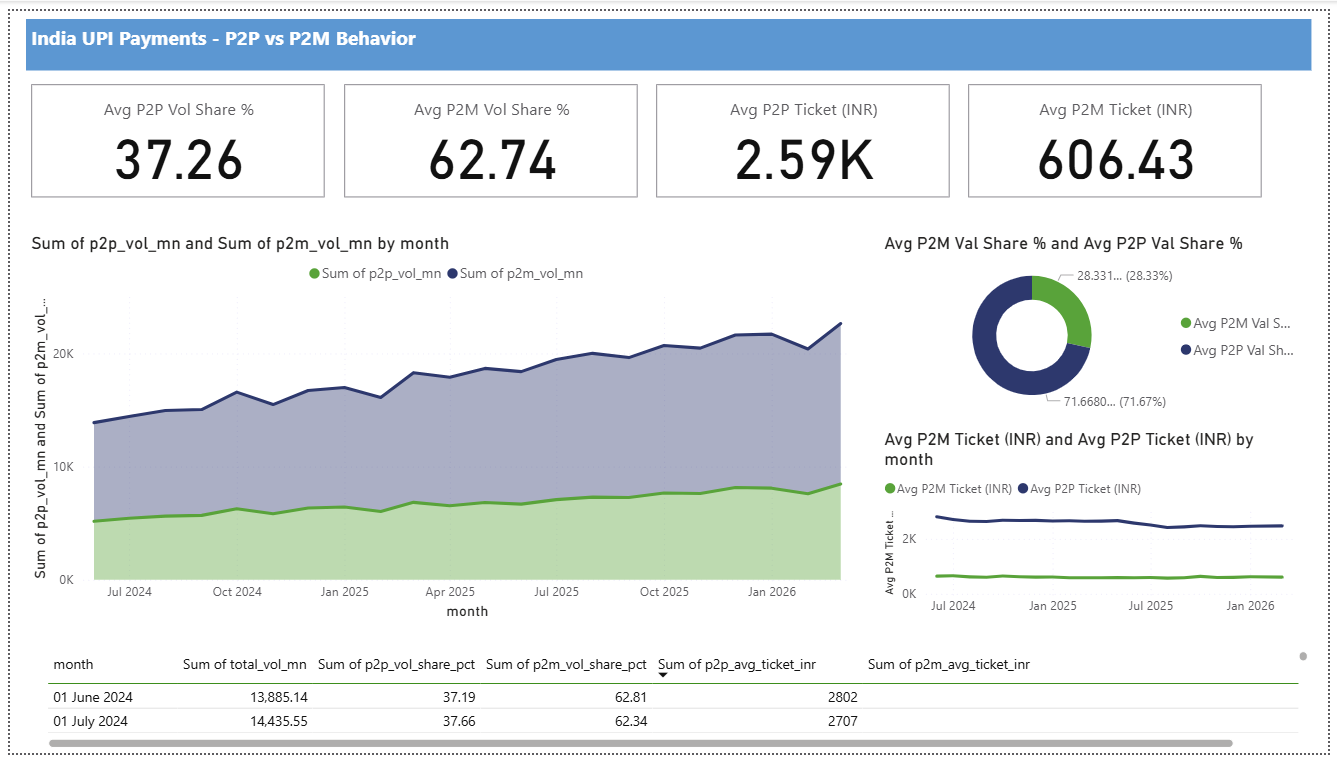

The page's visual inventory and layout, read from the dashboard file:
{"tool":"powerbi","page":{"name":"P2P vs P2M Behavior","canvas":[1280,720],"ordinal":2},"visuals":[{"type":"textbox","box":[16,8,1248,50],"z":0},{"type":"cardVisual","fields":{"Data":["v_p2p_p2m_split.Avg P2P Vol Share %"]},"box":[16,66,295,120],"z":1000},{"type":"cardVisual","fields":{"Data":["v_p2p_p2m_split.Avg P2P Ticket (INR)"]},"box":[622,66,295,120],"z":2000},{"type":"cardVisual","fields":{"Data":["v_p2p_p2m_split.Avg P2M Ticket (INR)"]},"box":[925,66,295,120],"z":3000},{"type":"cardVisual","fields":{"Data":["v_p2p_p2m_split.Avg P2M Vol Share %"]},"box":[319,66,295,120],"z":4000},{"type":"stackedAreaChart","fields":{"Category":["v_p2p_p2m_split.month"],"Y":["Sum(v_p2p_p2m_split.p2p_vol_mn)","Sum(v_p2p_p2m_split.p2m_vol_mn)"]},"box":[16,216,820,380],"z":5000},{"type":"donutChart","fields":{"Y":["v_p2p_p2m_split.Avg P2M Val Share %","v_p2p_p2m_split.Avg P2P Val Share %"]},"box":[844,216,420,180],"z":6000},{"type":"lineChart","fields":{"Category":["v_p2p_p2m_split.month"],"Y":["v_p2p_p2m_split.Avg P2M Ticket (INR)","v_p2p_p2m_split.Avg P2P Ticket (INR)"]},"box":[844,406,420.4,190],"z":7000},{"type":"tableEx","fields":{"Values":["v_p2p_p2m_split.month","Sum(v_p2p_p2m_split.total_vol_mn)","Sum(v_p2p_p2m_split.p2p_vol_share_pct)","Sum(v_p2p_p2m_split.p2m_vol_share_pct)","Sum(v_p2p_p2m_split.p2p_avg_ticket_inr)","Sum(v_p2p_p2m_split.p2m_avg_ticket_inr)"]},"box":[31.1,616.5,1248.5,103.9],"z":8000}]}

Visuals, with their boxes in screenshot pixels (x1, y1, x2, y2), scaled from the page's 1280x720 canvas onto the 1337x760 screenshot:
textbox: {"x1": 17, "y1": 8, "x2": 1320, "y2": 61}
cardVisual - v_p2p_p2m_split.Avg P2P Vol Share %: {"x1": 17, "y1": 70, "x2": 325, "y2": 196}
cardVisual - v_p2p_p2m_split.Avg P2P Ticket (INR): {"x1": 650, "y1": 70, "x2": 958, "y2": 196}
cardVisual - v_p2p_p2m_split.Avg P2M Ticket (INR): {"x1": 966, "y1": 70, "x2": 1274, "y2": 196}
cardVisual - v_p2p_p2m_split.Avg P2M Vol Share %: {"x1": 333, "y1": 70, "x2": 641, "y2": 196}
stackedAreaChart - v_p2p_p2m_split.month x Sum(v_p2p_p2m_split.p2p_vol_mn): {"x1": 17, "y1": 228, "x2": 873, "y2": 629}
donutChart - v_p2p_p2m_split.Avg P2M Val Share % x v_p2p_p2m_split.Avg P2P Val Share %: {"x1": 882, "y1": 228, "x2": 1320, "y2": 418}
lineChart - v_p2p_p2m_split.month x v_p2p_p2m_split.Avg P2M Ticket (INR): {"x1": 882, "y1": 429, "x2": 1321, "y2": 629}
tableEx - v_p2p_p2m_split.month x Sum(v_p2p_p2m_split.total_vol_mn): {"x1": 32, "y1": 651, "x2": 1336, "y2": 759}
